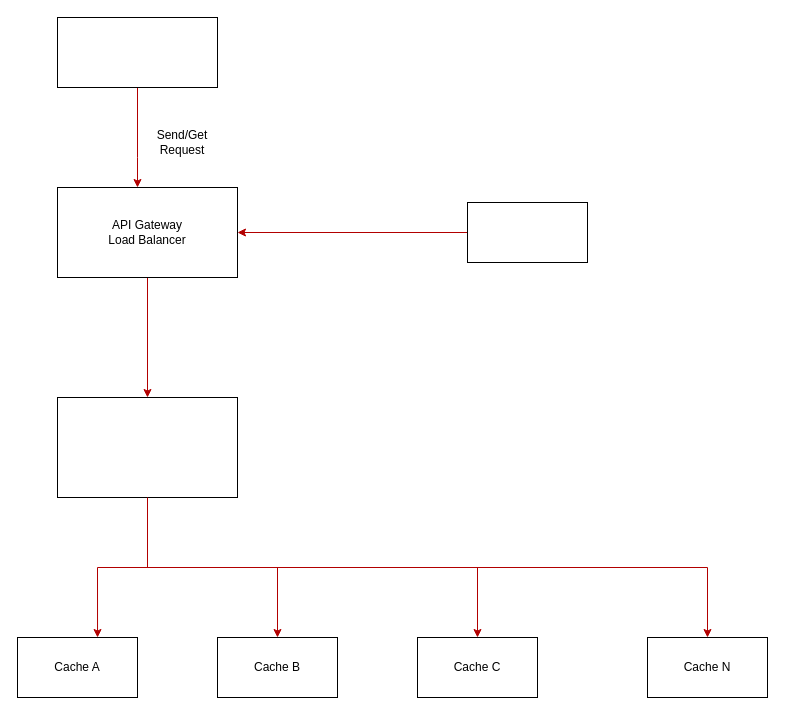
Some shapes in this 785 by 715 pixel diagram are drawn without their labels. Each missing label, with the centre of its shape:
Client: the point at 137,52
Coordinator - Hashring - Monitoring - Heartbeat: the point at 147,447
Monitoring: the point at 527,232
